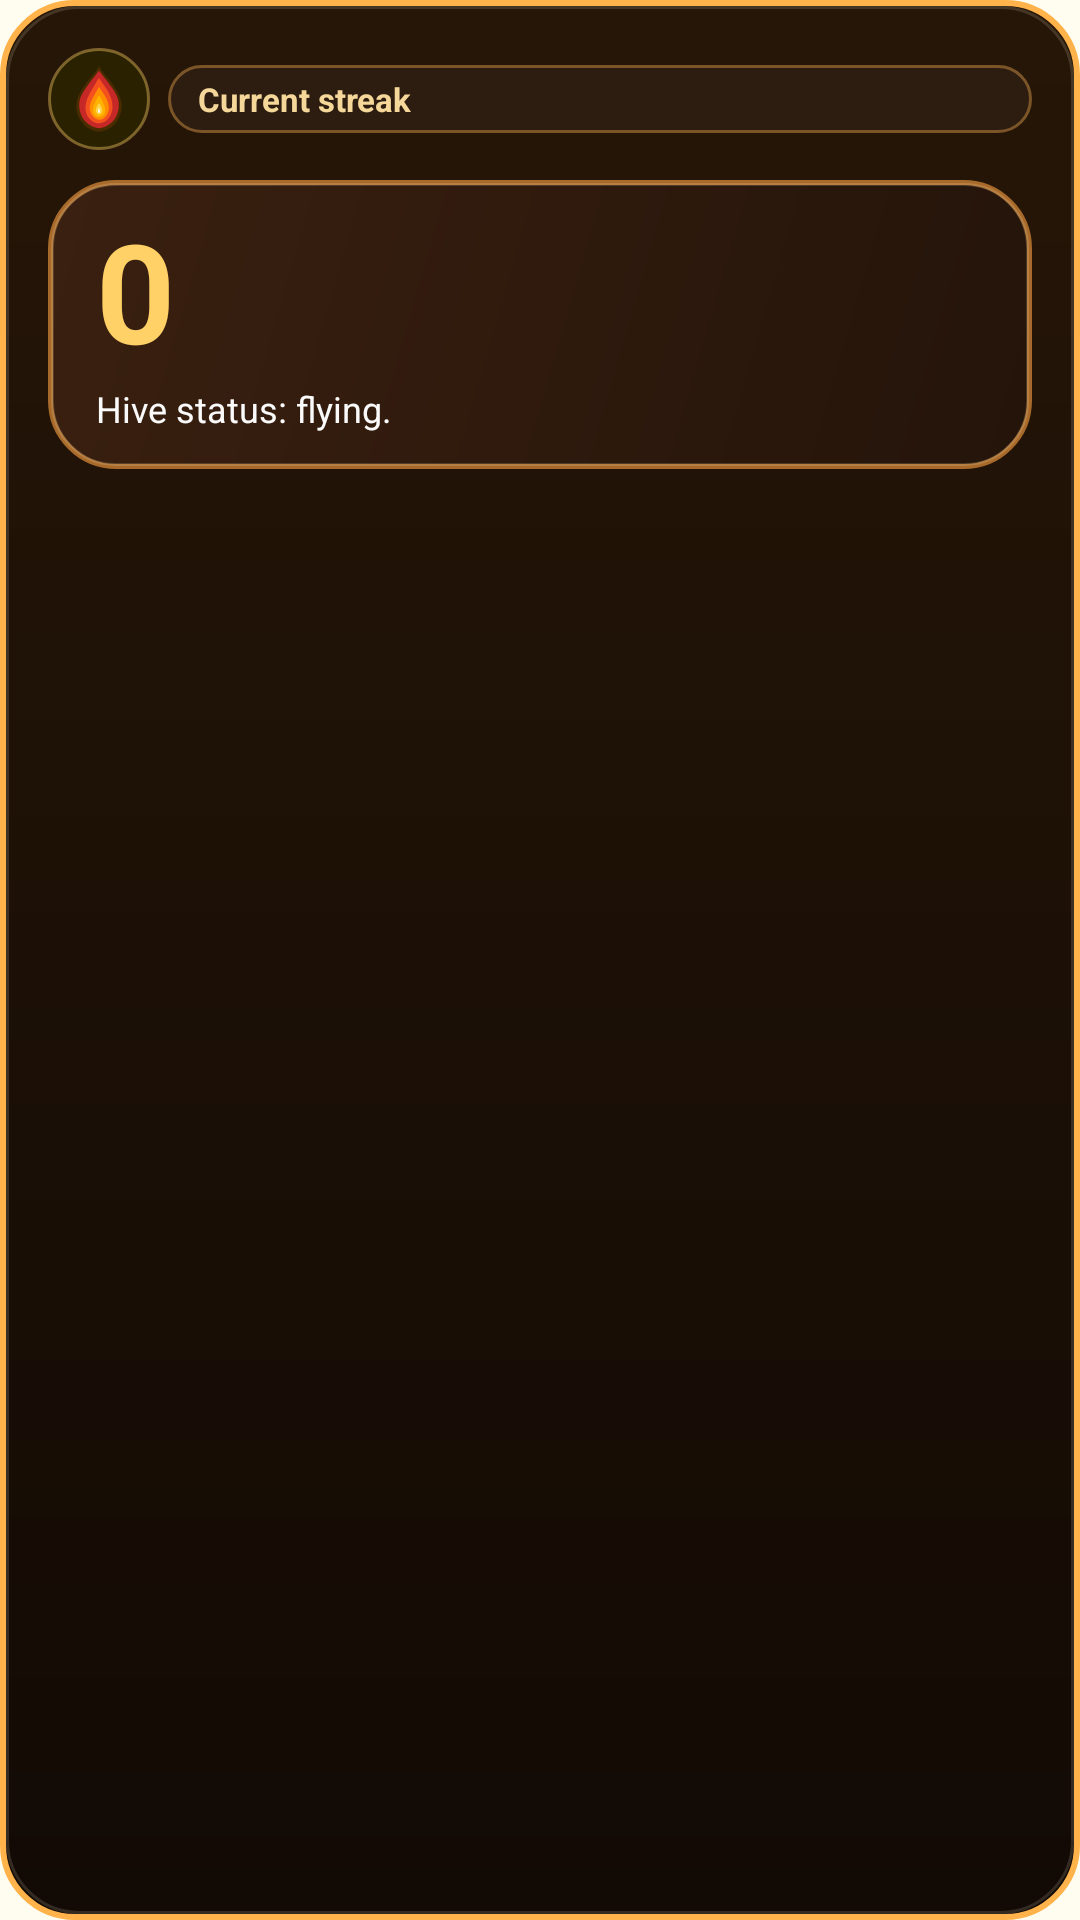

Icons on this 1080px x 1920px Android screen, each with the point to tap as point (x, y):
streak fire: point (99, 99)
